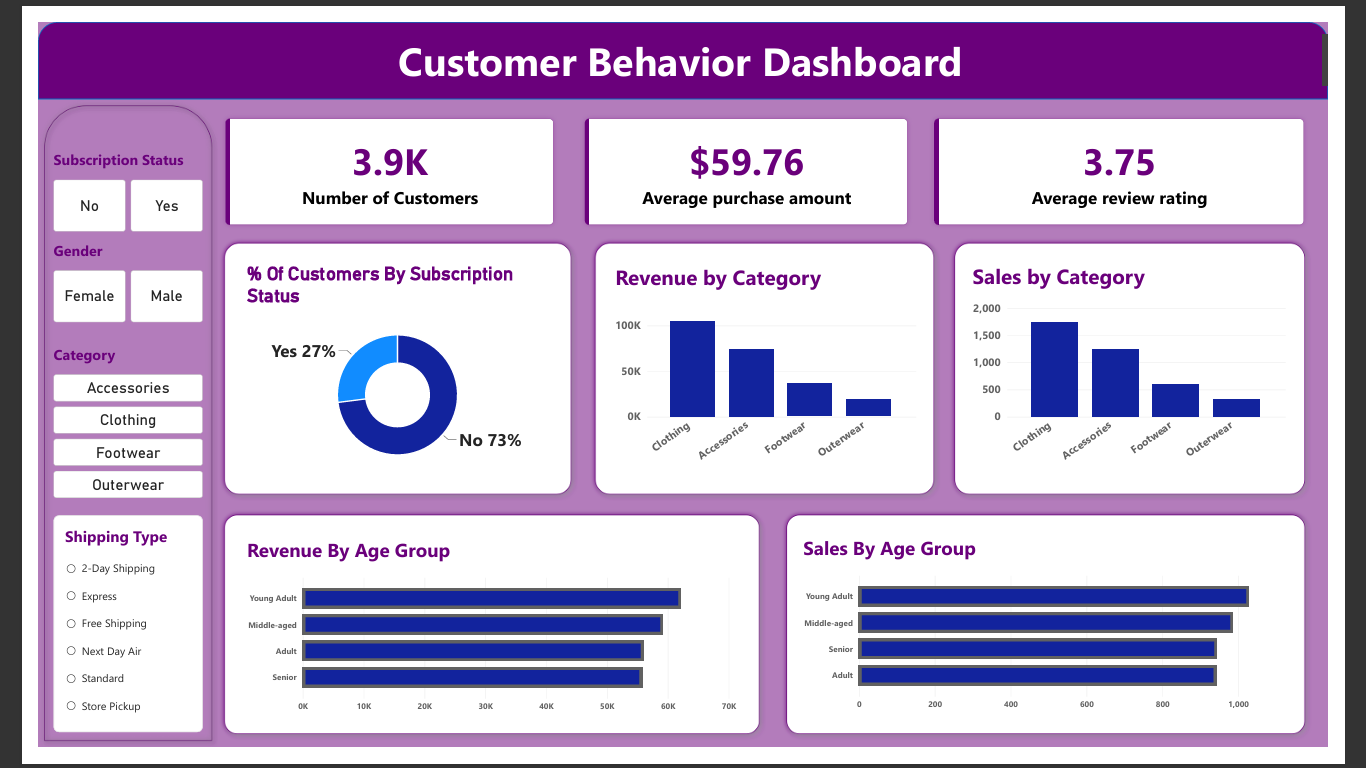

The page's visual inventory and layout, read from the dashboard file:
{"tool":"powerbi","page":{"name":"Page 1","canvas":[1920,1080],"ordinal":0},"visuals":[{"type":"cardVisual","fields":{"Data":["public customer.Number of Customers"]},"box":[267.5,132.5,510,180],"z":0},{"type":"cardVisual","fields":{"Data":["public customer.Average purchase amount"]},"box":[802.5,132.5,502.5,180],"z":1000},{"type":"cardVisual","fields":{"Data":["public customer.Average review rating"]},"box":[1322.5,132.5,572.5,180],"z":2000},{"type":"shape","box":[0,0,1920,115],"z":3000},{"type":"textbox","box":[0,17.5,1920,77.5],"z":4000},{"type":"shape","box":[267.5,320,535,392.5],"z":5000},{"type":"donutChart","title":"% Of Customers By Subscription Status","fields":{"Category":["public customer.subscription_status"],"Y":["CountNonNull(public customer.customer_id)1"]},"box":[295,345,480,342.5],"z":6000},{"type":"shape","box":[820,320,522.5,392.5],"z":7000},{"type":"shape","box":[1355,320,540,392.5],"z":8000},{"type":"clusteredColumnChart","title":"Revenue by Category","fields":{"Category":["public customer.category"],"Y":["Sum(public customer.purchase_amount)"]},"box":[842.5,345,480,340],"z":9000},{"type":"clusteredColumnChart","title":"Sales by Category","fields":{"Category":["public customer.category"],"Y":["CountNonNull(public customer.customer_id)"]},"box":[1375,342.5,497.5,342.5],"z":10000},{"type":"shape","box":[0,115,267.5,965],"z":11000},{"type":"advancedSlicerVisual","title":"Subscription Status","fields":{"Values":["public customer.subscription_status"]},"box":[22.5,190,222.5,122.5],"z":12000},{"type":"advancedSlicerVisual","title":"Gender","fields":{"Values":["public customer.gender"]},"box":[22.5,325,222.5,122.5],"z":13000},{"type":"advancedSlicerVisual","title":"Category","fields":{"Values":["public customer.category"]},"box":[22.5,480,222.5,232.5],"z":14000},{"type":"listSlicer","title":"Shipping Type","fields":{"Values":["public customer.shipping_type"]},"box":[22.5,735,222.5,323],"z":15000},{"type":"shape","box":[267.5,725,815,345],"z":16000},{"type":"clusteredBarChart","title":"Revenue By Age Group","fields":{"Category":["public customer.age_group"],"Y":["Sum(public customer.purchase_amount)"]},"box":[295,752.5,760,295],"z":17000},{"type":"shape","box":[1105,725,790,345],"z":18000},{"type":"clusteredBarChart","title":"Sales By Age Group","fields":{"Category":["public customer.age_group"],"Y":["CountNonNull(public customer.customer_id)"]},"box":[1122.5,750,752.5,295],"z":19000}]}

Visuals, with their boxes in screenshot pixels (x1, y1, x2, y2), scaled from the page's 1920x1080 canvas onto the 1366x768 screenshot:
cardVisual - public customer.Number of Customers: (left=190, top=94, right=553, bottom=222)
cardVisual - public customer.Average purchase amount: (left=571, top=94, right=928, bottom=222)
cardVisual - public customer.Average review rating: (left=941, top=94, right=1348, bottom=222)
shape: (left=0, top=0, right=1365, bottom=82)
textbox: (left=0, top=12, right=1365, bottom=68)
shape: (left=190, top=228, right=571, bottom=507)
"% Of Customers By Subscription Status" donutChart: (left=210, top=245, right=551, bottom=489)
shape: (left=583, top=228, right=955, bottom=507)
shape: (left=964, top=228, right=1348, bottom=507)
"Revenue by Category" clusteredColumnChart: (left=599, top=245, right=941, bottom=487)
"Sales by Category" clusteredColumnChart: (left=978, top=244, right=1332, bottom=487)
shape: (left=0, top=82, right=190, bottom=767)
"Subscription Status" advancedSlicerVisual: (left=16, top=135, right=174, bottom=222)
"Gender" advancedSlicerVisual: (left=16, top=231, right=174, bottom=318)
"Category" advancedSlicerVisual: (left=16, top=341, right=174, bottom=507)
"Shipping Type" listSlicer: (left=16, top=523, right=174, bottom=752)
shape: (left=190, top=516, right=770, bottom=761)
"Revenue By Age Group" clusteredBarChart: (left=210, top=535, right=751, bottom=745)
shape: (left=786, top=516, right=1348, bottom=761)
"Sales By Age Group" clusteredBarChart: (left=799, top=533, right=1334, bottom=743)
